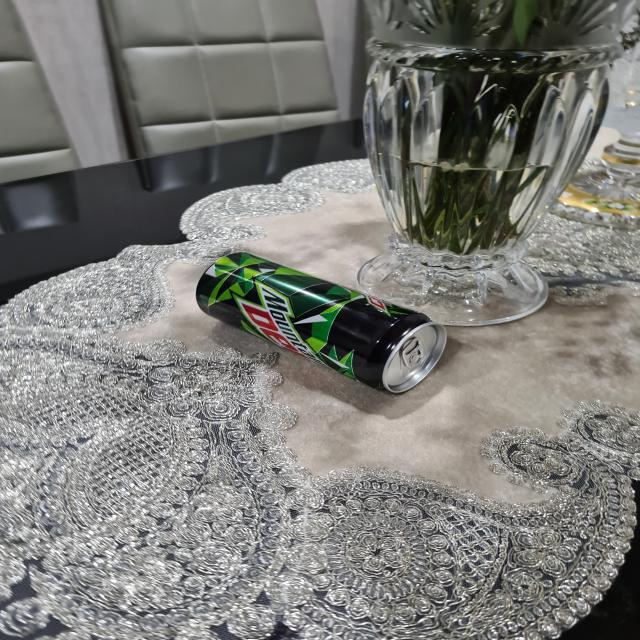can: (194, 248, 454, 399)
